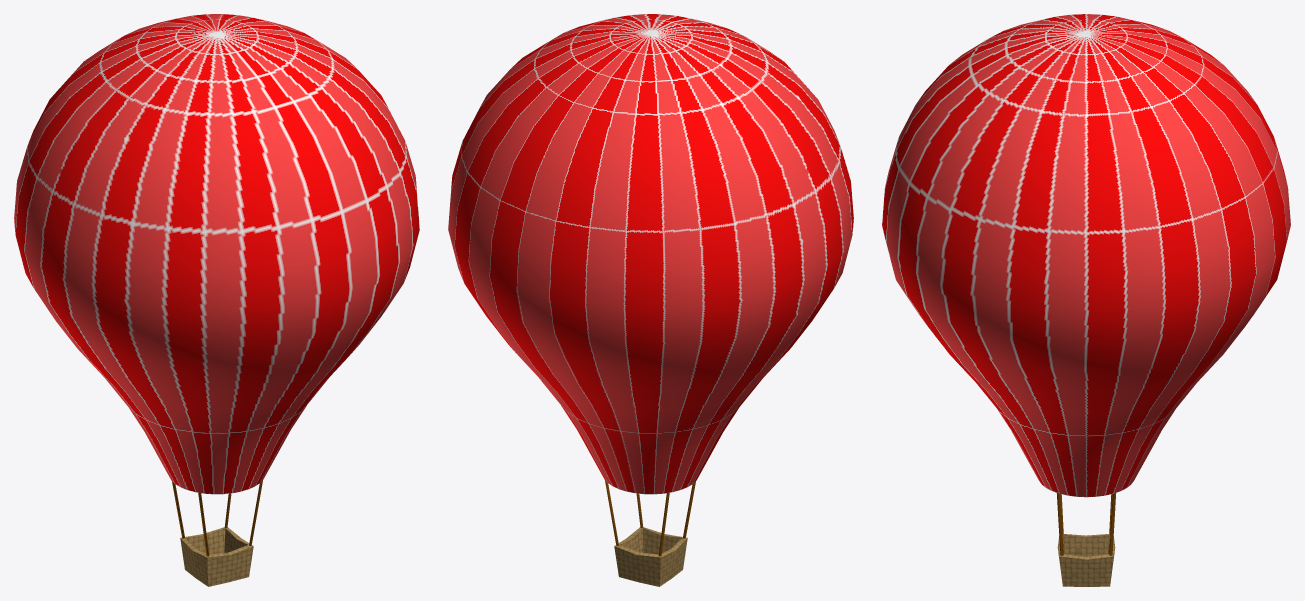
File: balloon.obj
3 renders of one model, left to right at view 1: azimuth 30°, elevation 25°; view 2: azimuth 150°, elevation 25°; view 3: azimuth 270°, elevation 25°, orthographic.
Visible parts, largest first — view 1: Sphere, Cube_Cube.008, Sphere.001; view 2: Sphere, Cube_Cube.008, Sphere.001; view 3: Sphere, Cube_Cube.008, Sphere.001.
Part boxes in pixels (bbox=[...]): Sphere: bbox=[14, 14, 419, 494]; Cube_Cube.008: bbox=[180, 527, 253, 586]; Sphere.001: bbox=[172, 480, 262, 556]; Sphere: bbox=[448, 14, 853, 494]; Cube_Cube.008: bbox=[614, 527, 687, 586]; Sphere.001: bbox=[605, 480, 695, 556]; Sphere: bbox=[882, 14, 1290, 497]; Cube_Cube.008: bbox=[1057, 534, 1115, 586]; Sphere.001: bbox=[1056, 493, 1116, 555].
Bounding box in the file's own units: 26.57 × 38.94 × 26.57.
